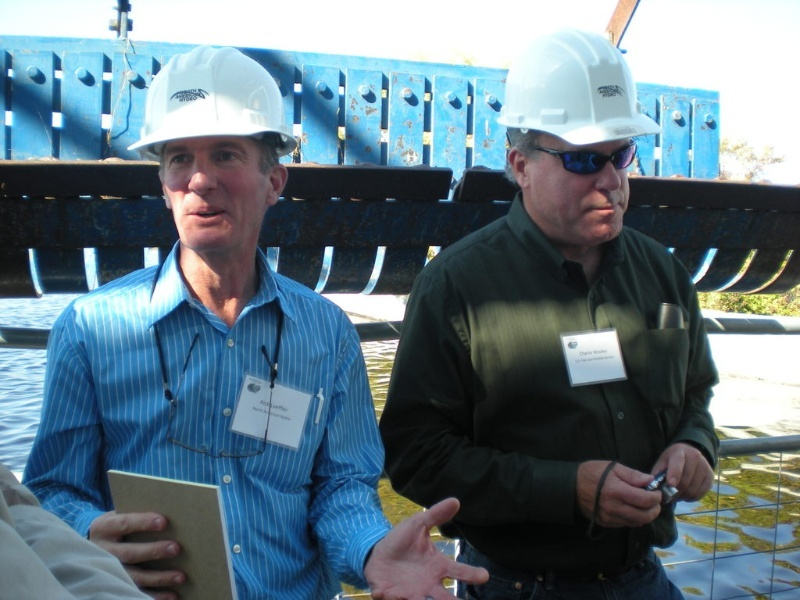Baret: (124, 46, 300, 163), (495, 30, 661, 150)
